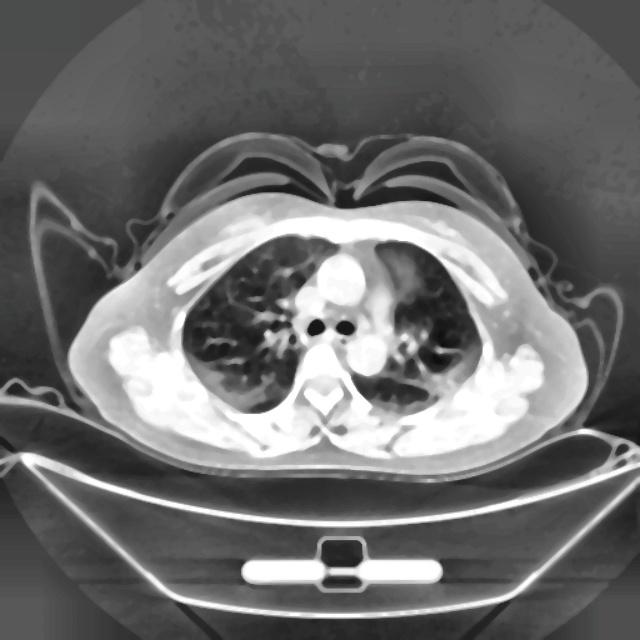covid: (62, 130, 597, 483)
